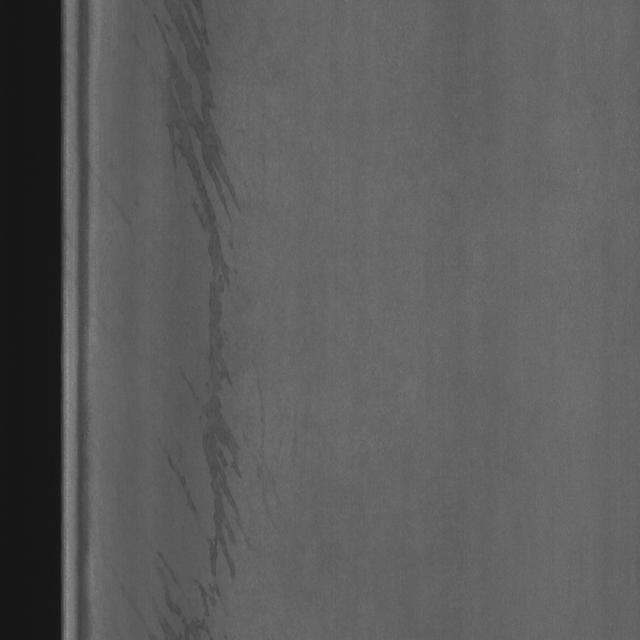water_spot: (149, 9, 266, 620)
